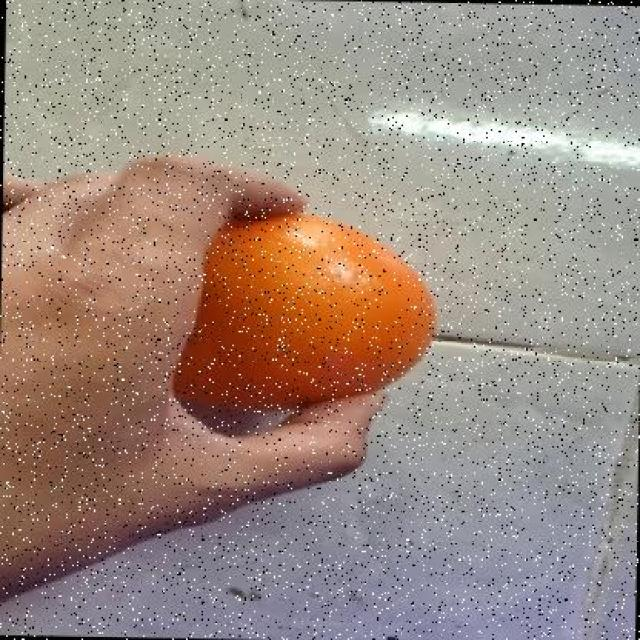Orange: (171, 205, 438, 420)
